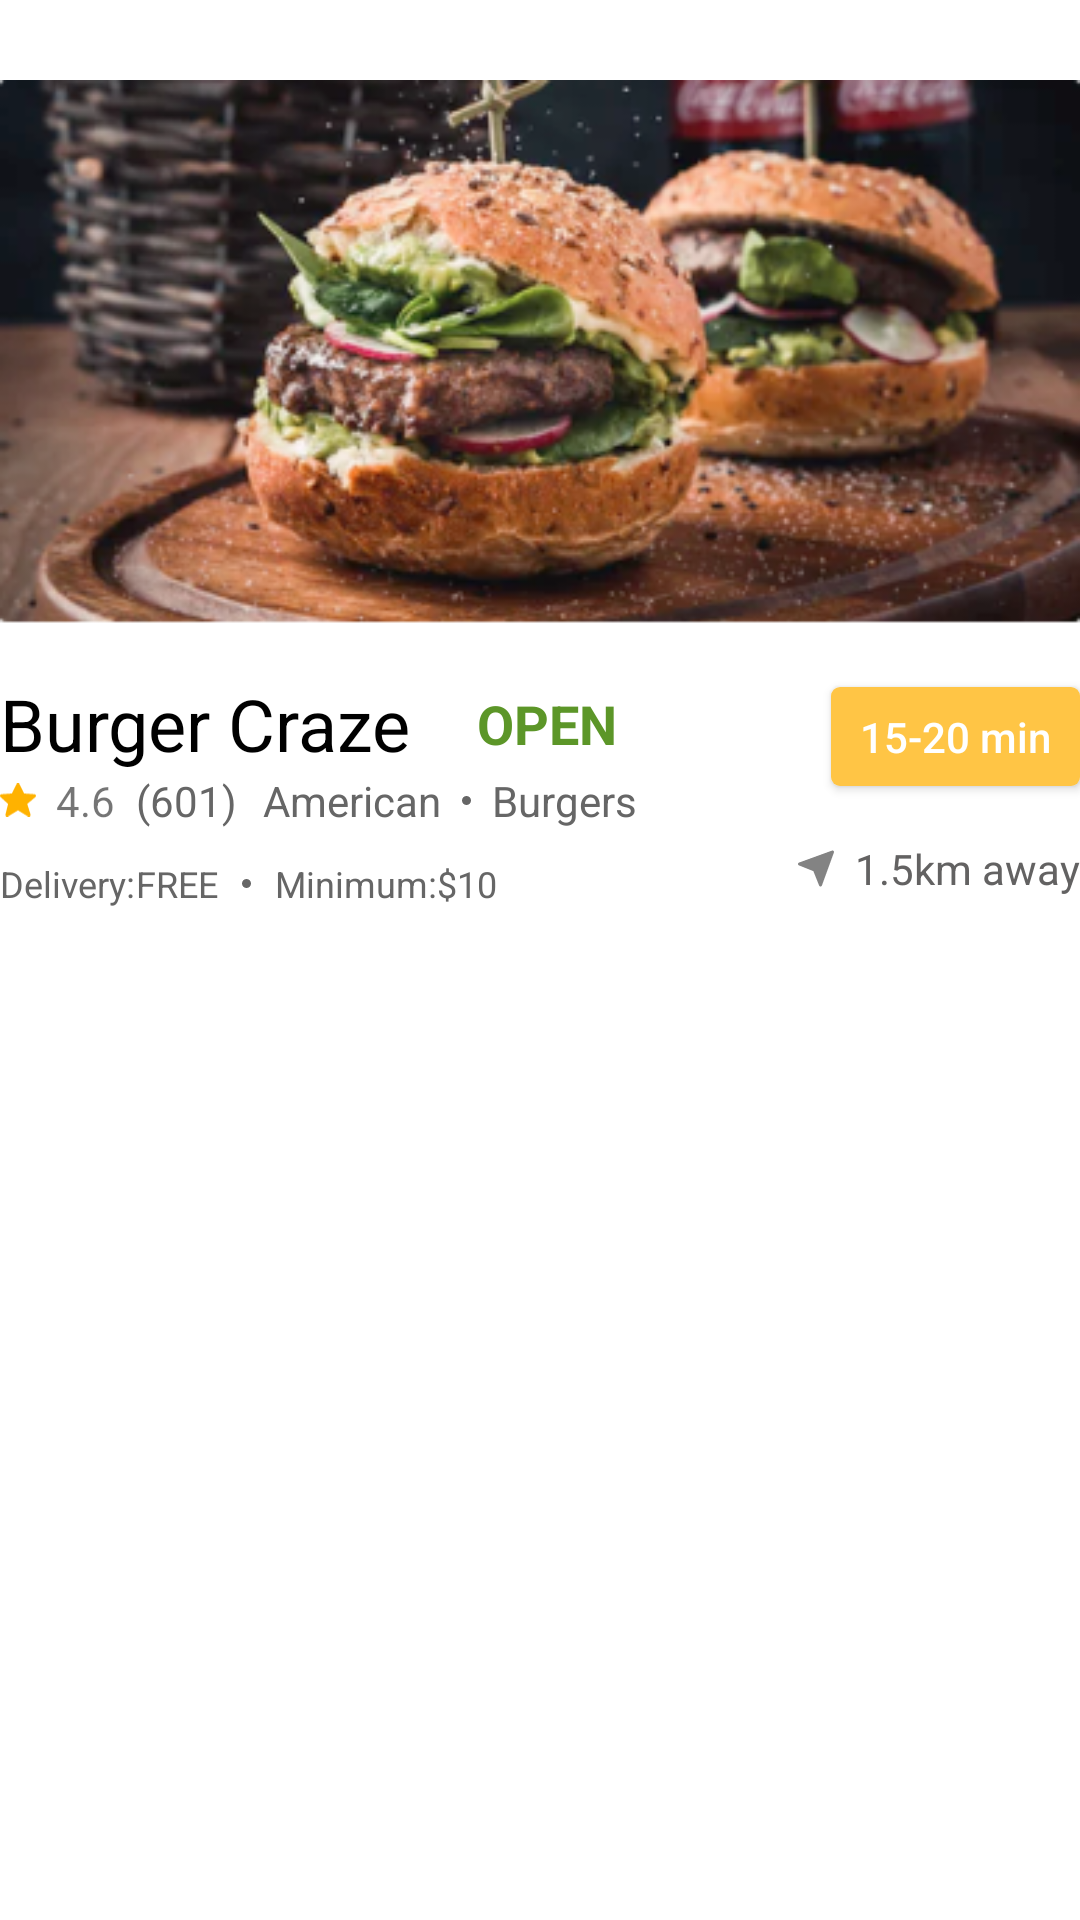

Icon click points for this 1080 × 1920 phone screenshot, format (x,y):
direction: (816,868)
star: (18,800)
